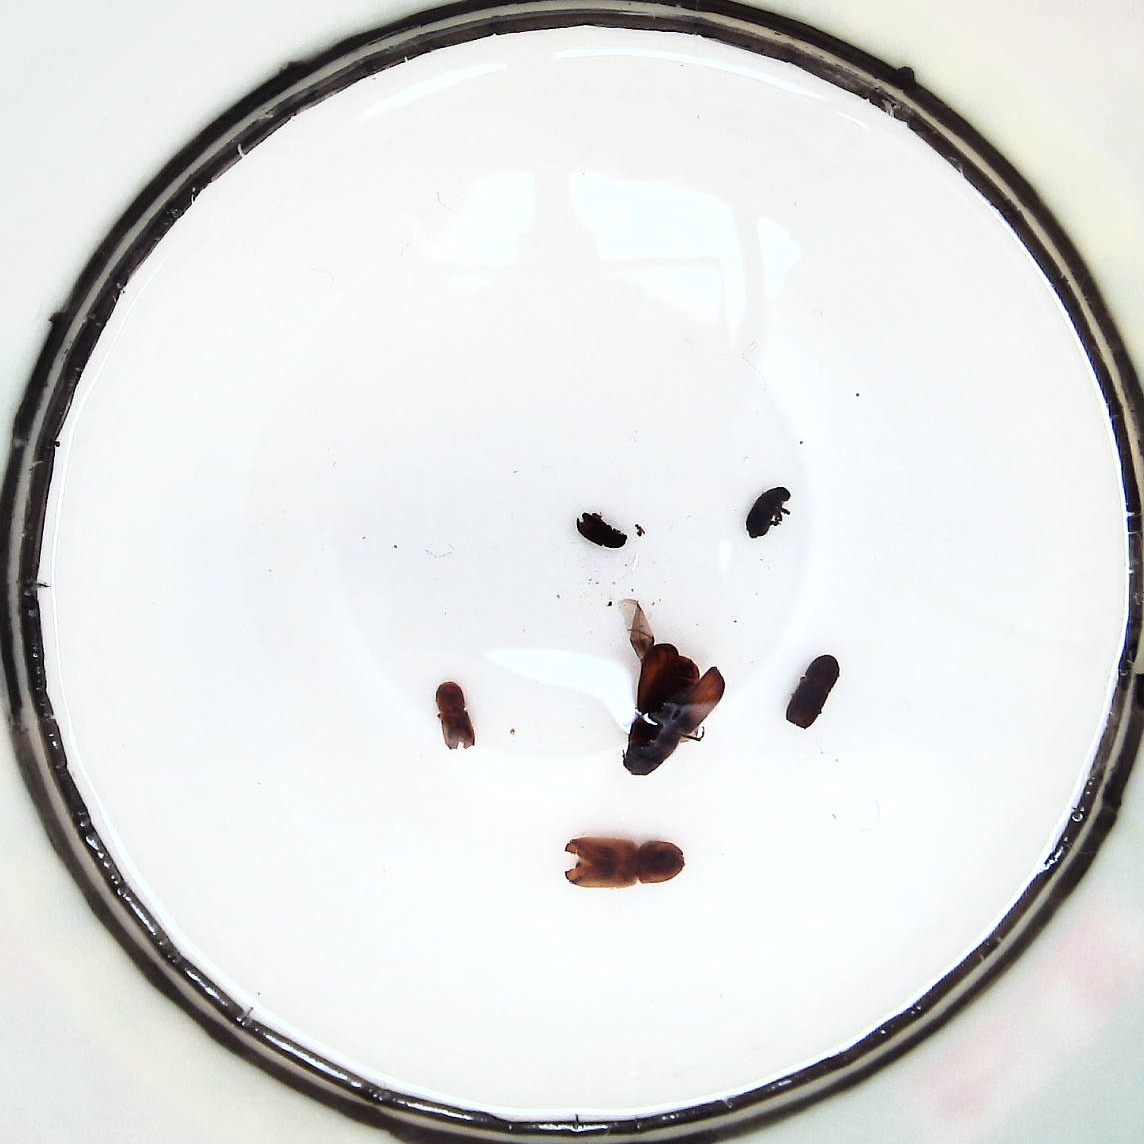Boerner: (564, 835, 685, 889)
Leconte: (622, 642, 725, 774)
acuminatus: (746, 487, 791, 538)
armandi: (436, 679, 475, 750)
coleoptera: (576, 510, 626, 549)
linnaeus: (785, 655, 839, 728)
